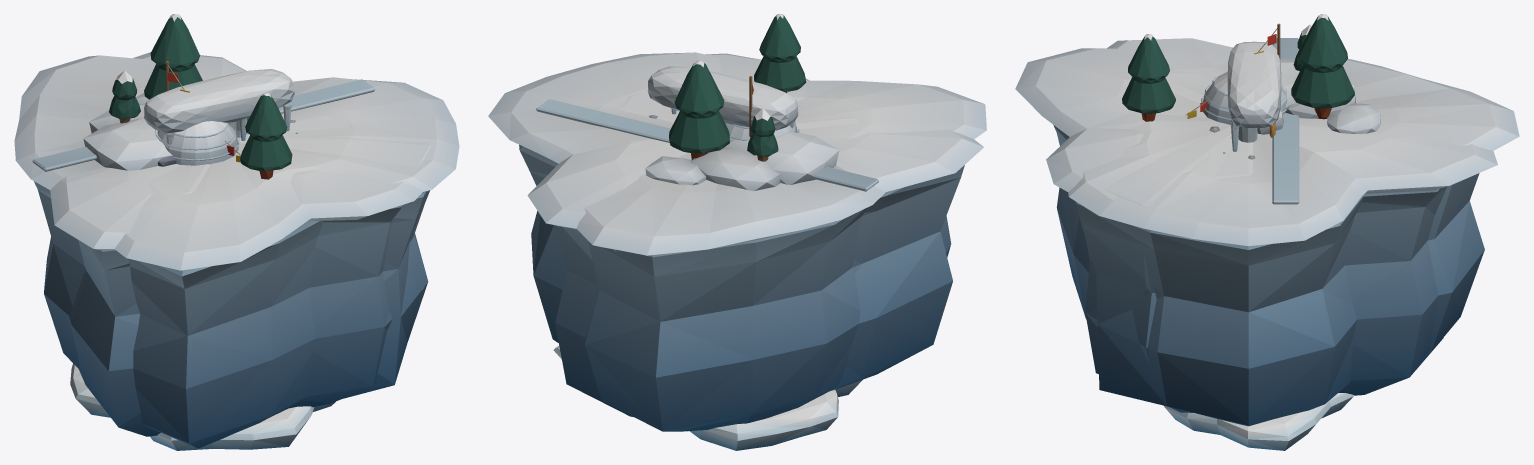
Rendered from glacier-s8-DAtoDkO8.glb.
The picture shows the model from 3 angles, left to right: view 1: azimuth 30°, elevation 25°; view 2: azimuth 150°, elevation 25°; view 3: azimuth 270°, elevation 25°; orthographic projection.
Visible parts, largest first — view 1: sc_drift_1, sc_shelf_1, sc_z1_0, sc_floe; view 2: sc_drift_1, sc_shelf_1, sc_z1_0, sc_floe; view 3: sc_drift_1, sc_shelf_1, sc_z1_0, sc_floe.
Boxes of the visible parts, x1,y1,x2,y2 form: sc_drift_1: [14, 14, 459, 448]; sc_shelf_1: [50, 52, 430, 436]; sc_z1_0: [144, 69, 294, 144]; sc_floe: [70, 363, 335, 450]; sc_drift_1: [488, 52, 986, 431]; sc_shelf_1: [527, 14, 983, 416]; sc_z1_0: [647, 66, 798, 130]; sc_floe: [553, 345, 862, 450]; sc_drift_1: [1015, 14, 1519, 426]; sc_shelf_1: [1046, 23, 1497, 412]; sc_z1_0: [1227, 41, 1281, 151]; sc_floe: [1164, 393, 1354, 450].
Size of the model in its own units: 32.99 by 27.02 by 33.84.
